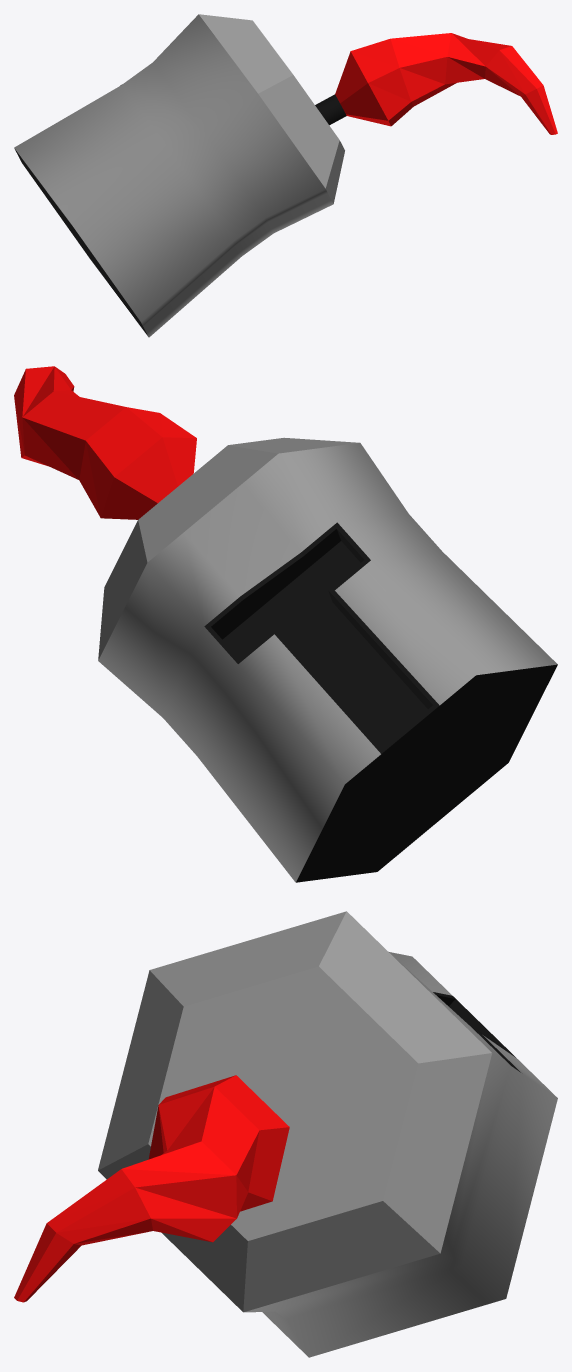
File: Projectile_Helmet.FBX
3 views of the same model, one above another, from view 1: azimuth 30°, elevation 25°; view 2: azimuth 150°, elevation 25°; view 3: azimuth 270°, elevation 25° (orthographic). The views are drawn at different scales.
Parts seen in each view (by area): view 1: Cylinder002; view 2: Cylinder002; view 3: Cylinder002.
Part boxes in pixels (box(x1,y1,x2,y2)): Cylinder002: box(14, 14, 557, 337); Cylinder002: box(14, 366, 557, 882); Cylinder002: box(14, 911, 557, 1357).
Size of the model in its own units: 4.24 by 2.86 by 2.85.
